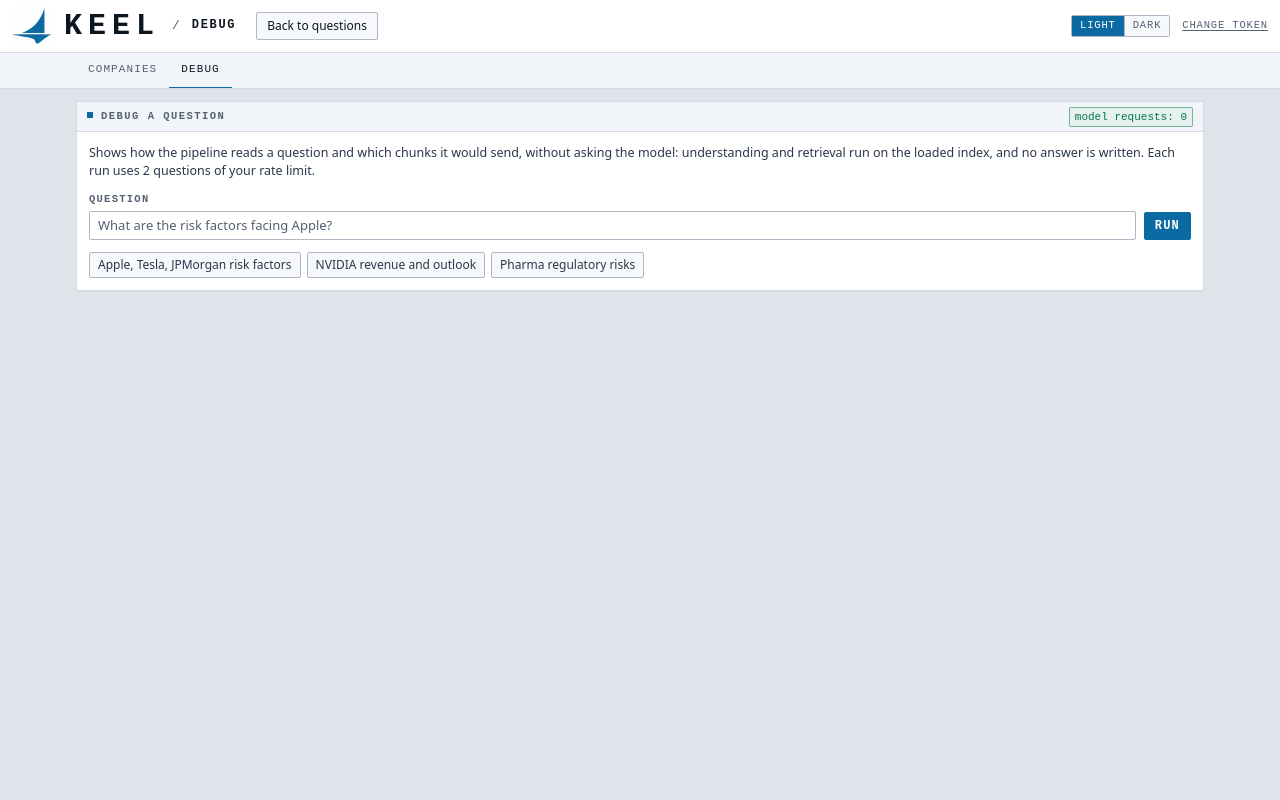
Test: DebugPage › shows an out-of-scope question without chunks
Type "What is the weather?" into the field with test id "debug-question" at (612,226), box [89,212,1136,240]
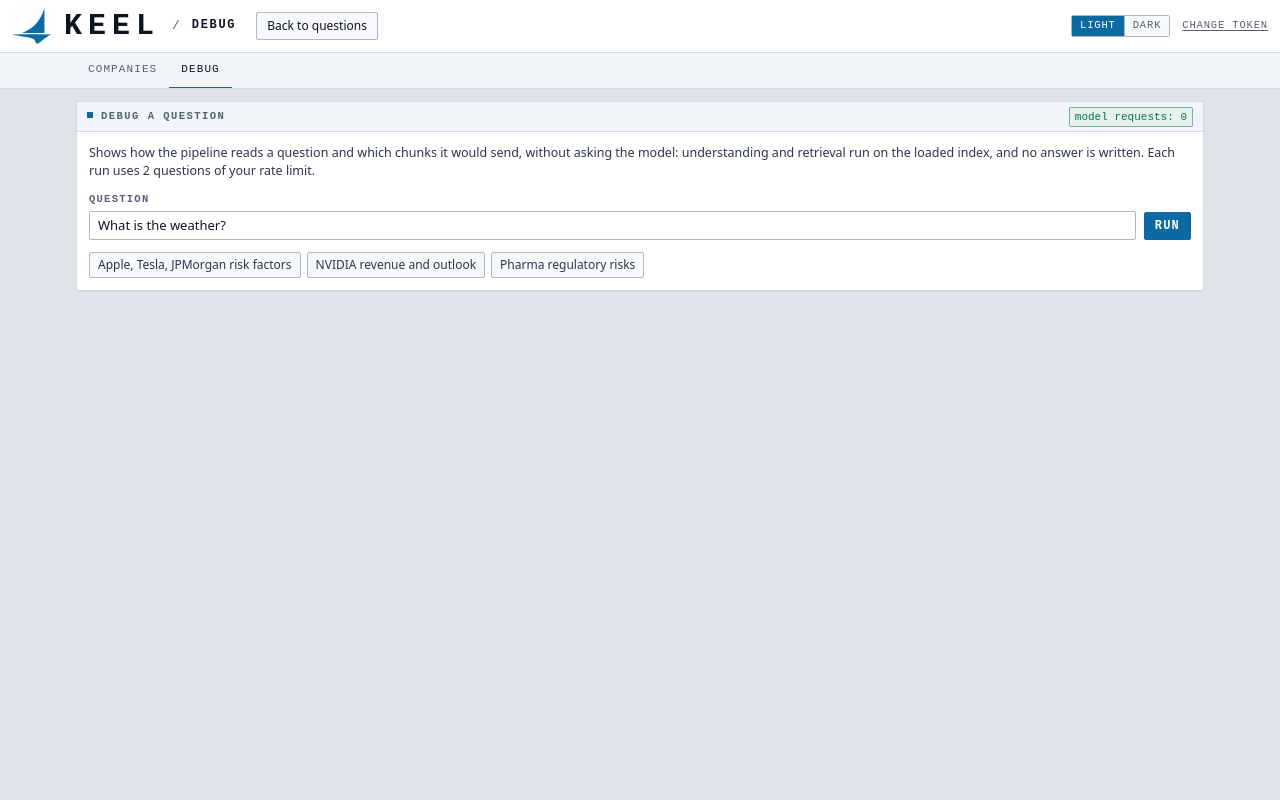
Click the button with test id "debug-run" at (1167,226), box [1144,212,1191,240]
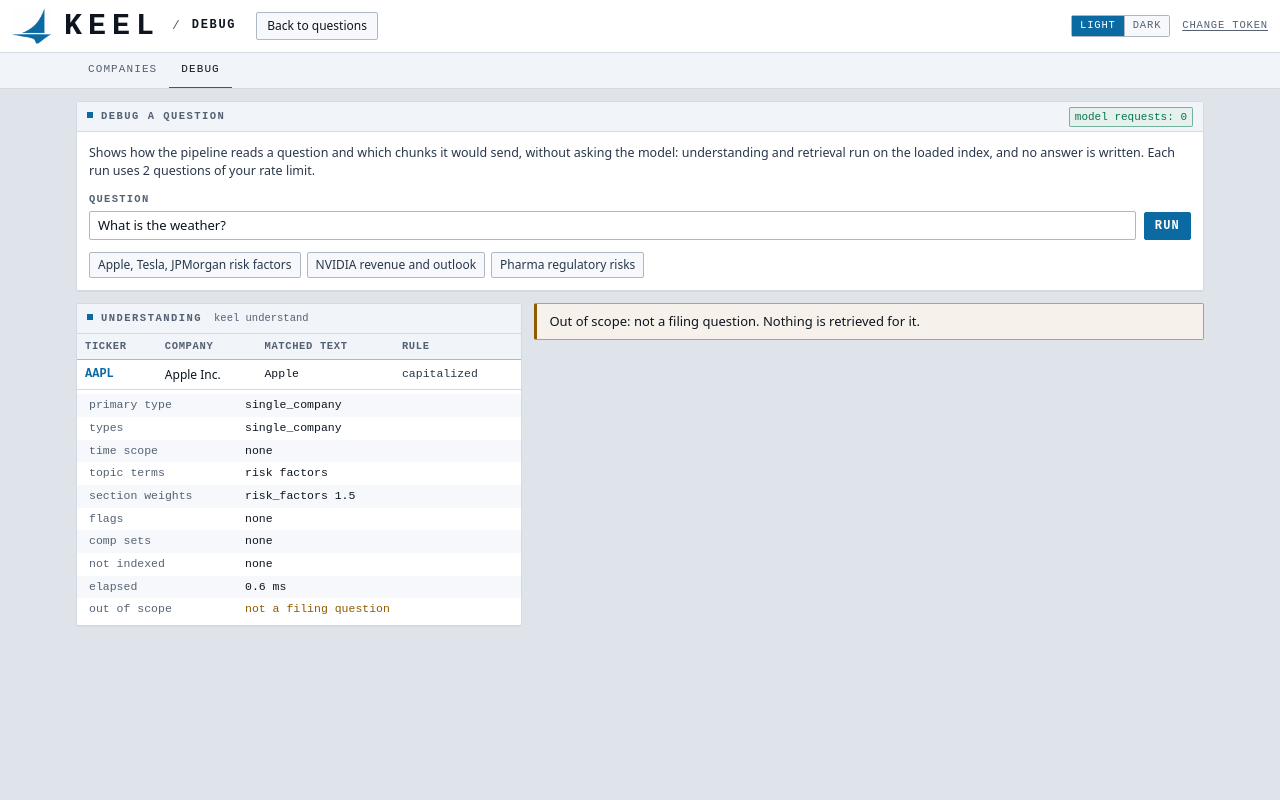
Check: the text with test id "debug-out-of-scope" shows "not a filing question", box [634,312,756,330]
